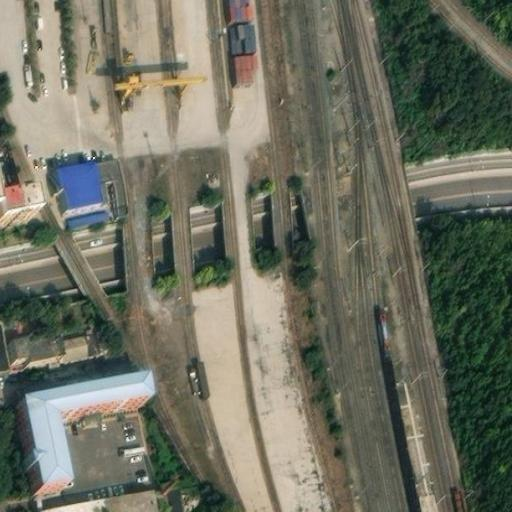building: (16, 367, 147, 485), (39, 481, 157, 512), (56, 153, 103, 202), (0, 233, 59, 266), (96, 156, 130, 209), (10, 322, 65, 352), (63, 325, 113, 353), (225, 20, 257, 56), (228, 50, 257, 85), (66, 203, 108, 225)
